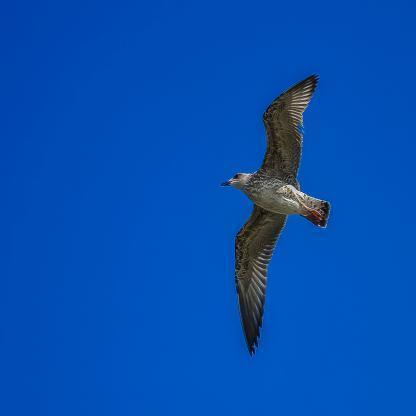bird: (218, 75, 331, 359)
